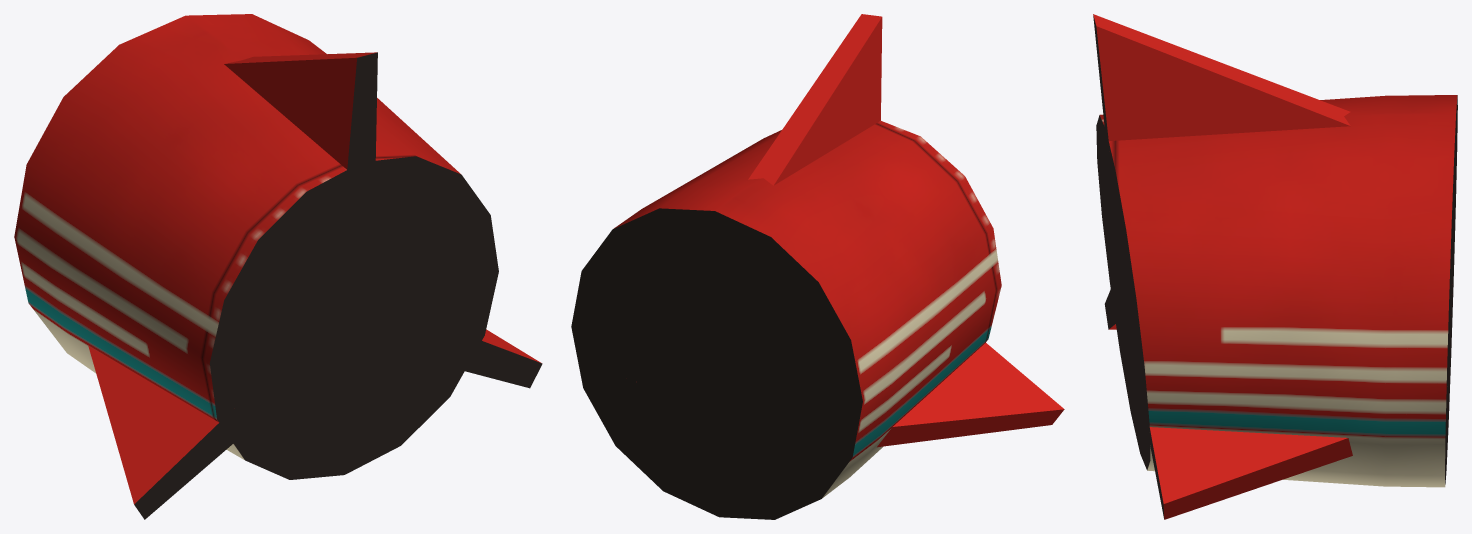
The model's file is comet_debris3.obj.
3 views of the same model, side by side, from view 1: azimuth 30°, elevation 25°; view 2: azimuth 150°, elevation 25°; view 3: azimuth 270°, elevation 25° (orthographic). The views are drawn at different scales.
Visible parts, largest first — view 1: hull, fin240, fin0, fin120; view 2: hull, fin0, fin240, fin120; view 3: hull, fin0, fin120, fin240.
Boxes of the visible parts, box(x1,y1,x2,y2) form: hull: box(14, 14, 498, 479); fin240: box(88, 346, 272, 519); fin0: box(224, 52, 377, 217); fin120: box(426, 329, 542, 388); hull: box(571, 121, 1001, 519); fin0: box(701, 14, 882, 270); fin240: box(787, 343, 1064, 449); fin120: box(615, 376, 647, 410); hull: box(1096, 95, 1457, 487); fin0: box(1093, 14, 1454, 189); fin120: box(1141, 382, 1447, 519); fin240: box(1104, 283, 1452, 329).
Bounding box in the file's own units: 2.31 × 2.28 × 1.68.
Materials: 3 (1 with a texture image).
